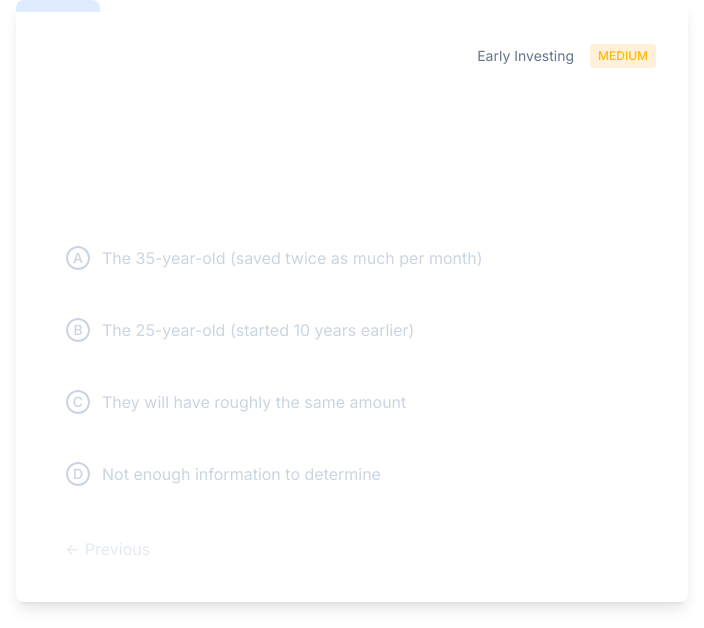
Test: RetirementPlanningQuizEnhanced › enables submit button after selecting an answer
The image size is (704, 628).
Click the button "A The 35-year-old (saved twice as much per month)": click(352, 258) [48,228,656,288]
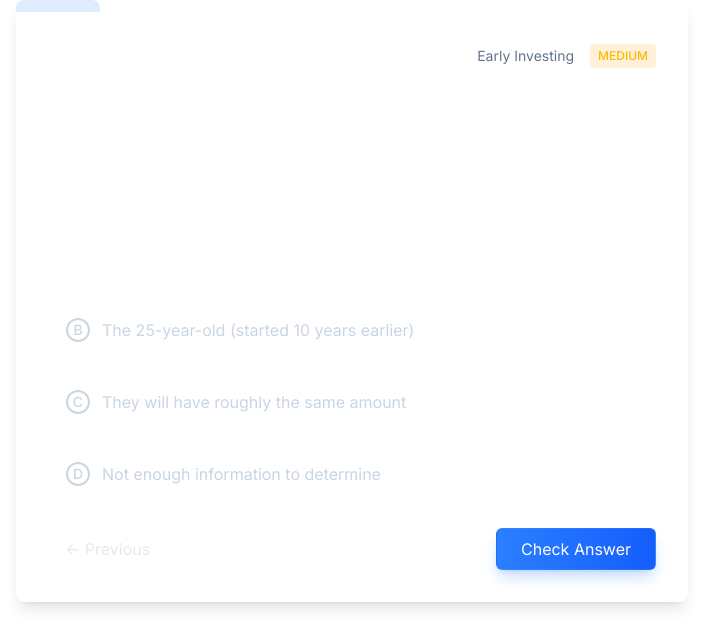
Now the button "Check Answer" is enabled, box [496,528,656,570]
